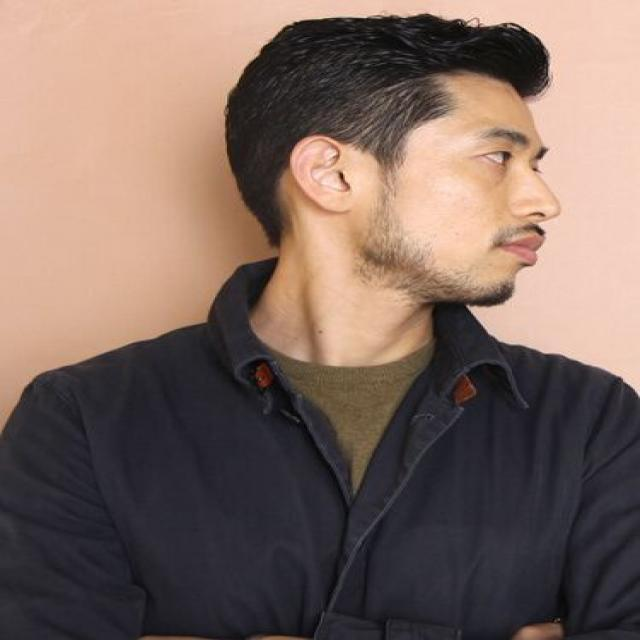Healthy: (251, 198, 428, 364)
